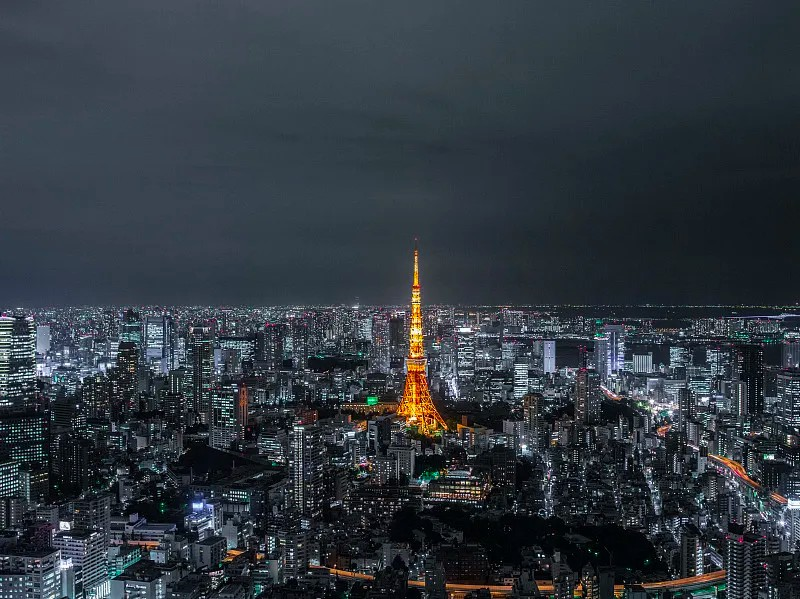Tokyo: (395, 233, 450, 437)
